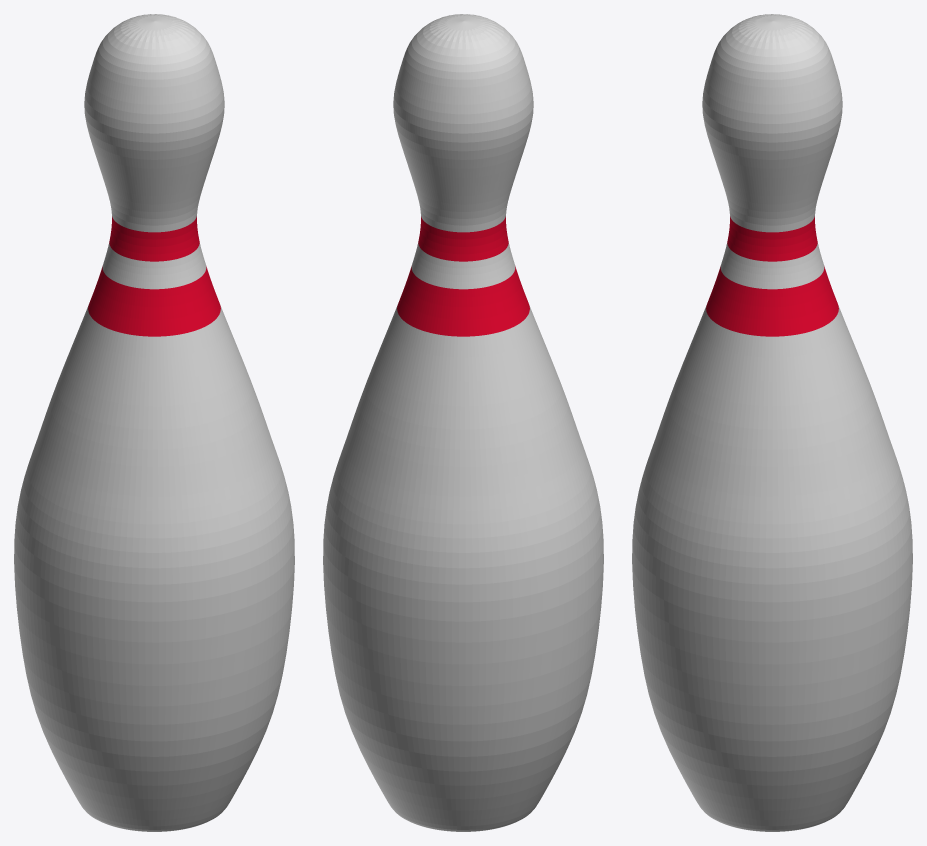
The model's file is Bowling_Pin.fbx.
3 views of the same model, side by side, from view 1: azimuth 30°, elevation 25°; view 2: azimuth 150°, elevation 25°; view 3: azimuth 270°, elevation 25° (orthographic).
Parts seen in each view (by area): view 1: Cylinder; view 2: Cylinder; view 3: Cylinder.
Part boxes in pixels (bbox=[...]): Cylinder: bbox=[14, 14, 294, 831]; Cylinder: bbox=[323, 14, 603, 831]; Cylinder: bbox=[632, 14, 912, 831].
Size of the model in its own units: 112 by 342 by 112.
